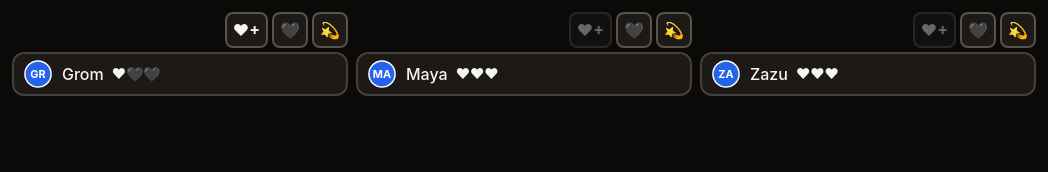
it: héros étourdi › la fiche du héros permet de le soigner ou de le blesser, jusqu’à sa mise hors combat
The width and height of the screenshot is (1048, 172).
Click the button named "Soigner Grom". click: (246, 30)
box: [225,12,268,48]
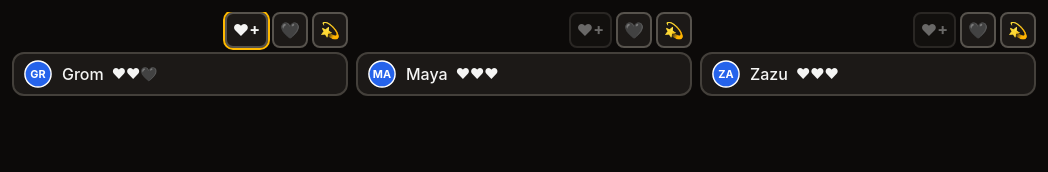
Click the button named "Blesser Grom". click: (290, 30)
box: [272,12,308,48]
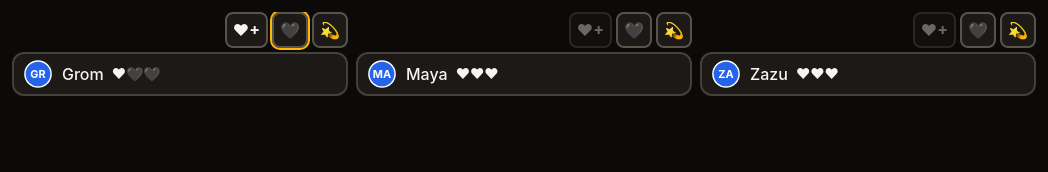
Click the button named "Blesser Grom". click: (290, 30)
box: [272,12,308,48]
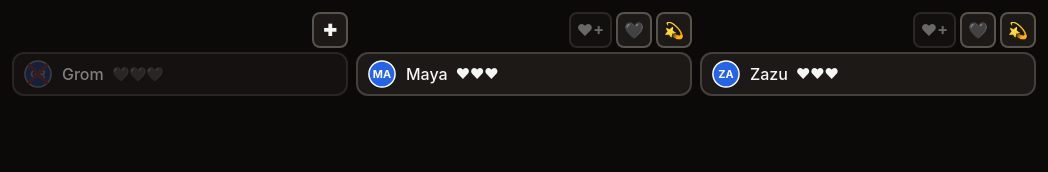
Now the button named "Ressusciter Grom" is shown, box [312,12,348,48]
